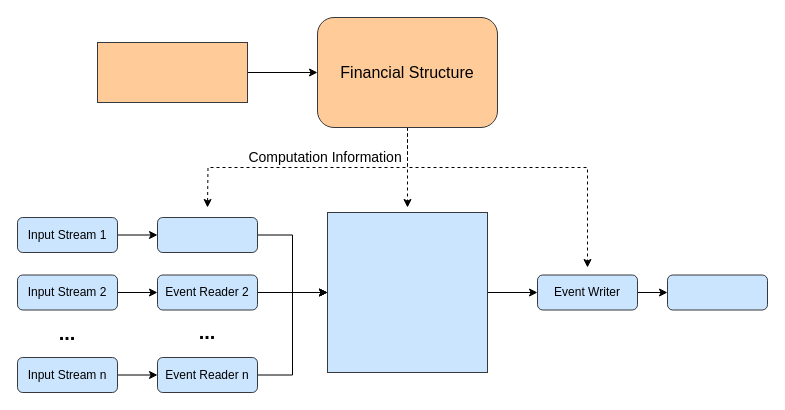
Image size: 785x410. Some labels were removed from this diagram. The shapes that lost their labels are listed below. From the top down, each one's centre as x and y in pixels, then its label:
At point 172,72: "Static input files".
At point 207,234: "Event Reader 1".
At point 407,292: "Compute Class".
At point 717,292: "Output Steam".
